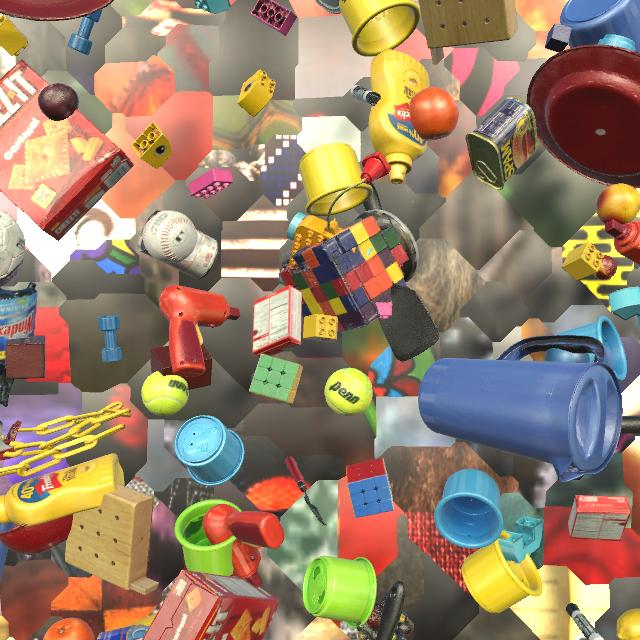ycb_002_master_chef_can: (97, 624, 149, 640), (315, 0, 346, 14)
ycb_003_cracker_box: (0, 60, 134, 241), (142, 570, 279, 640)
ycb_005_tomato_soup_can: (137, 210, 219, 279)
ycb_006_mustard_bottle: (0, 453, 124, 527), (369, 49, 430, 184)
ycb_009_gelatin_box: (252, 285, 302, 357), (568, 495, 631, 541)
ycb_010_potted_meat_can: (465, 97, 538, 190)
ycb_011_banana: (126, 613, 157, 627)
ycb_014_lemon: (616, 608, 640, 640)
ycb_015_peach: (596, 184, 640, 225)
ycb_017_orange: (409, 87, 459, 141), (43, 618, 95, 640)
ycb_018_plum: (38, 83, 79, 121)
